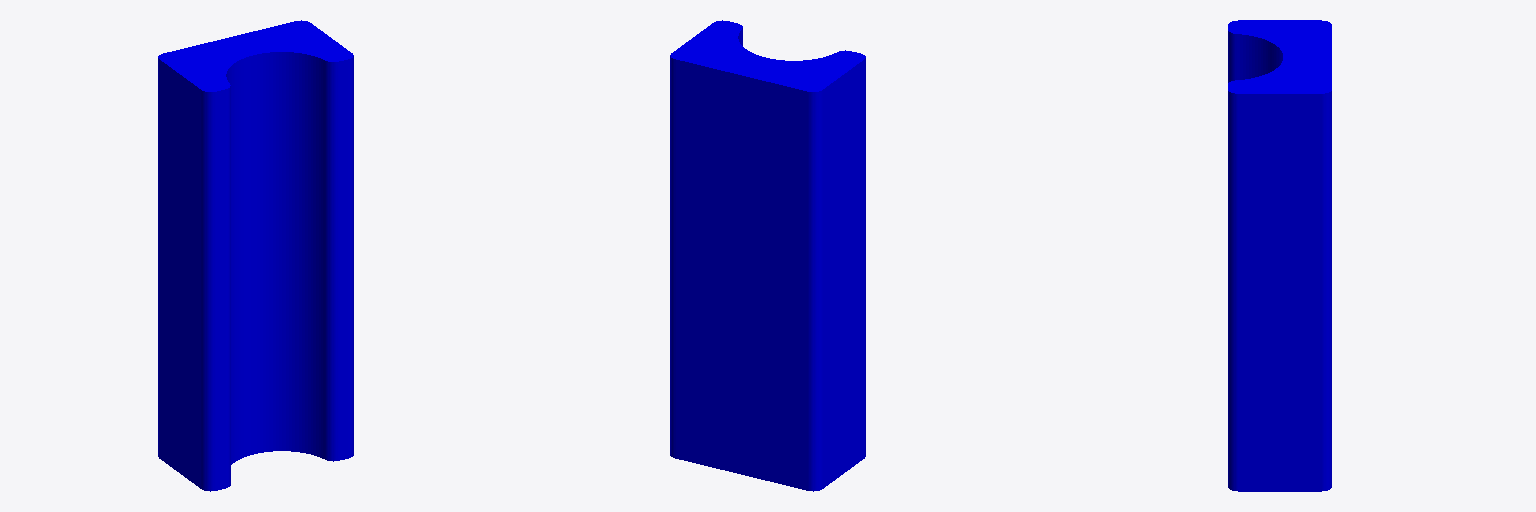
URDF robot description (board1_block15):
<?xml version="1.0"?>
<robot name="board1_block15">
    <link name="board1_block15">
        <visual>
            <origin xyz="0 0 0 " rpy=" 0 0 0"/>
            <geometry>
                <mesh filename="../meshes/SIMO_Board1_Block15.stl" scale="0.001 0.001 0.001"/>
            </geometry>
            <material name="red">
                <color rgba="0.0 0.0 1.0 1.0"/>
            </material>
        </visual>
        <collision>
            <origin xyz="0 0 0" rpy="0 0 0"/>
            <geometry>
                <mesh filename="../meshes/SIMO_Board1_Block15.stl" scale="0.001 0.001 0.001"/>
            </geometry>
        </collision>
    </link>
</robot>

--- What the picture shows (computed from the rendered views, not written in the file) ---
Views: 3 orthographic renders of the robot side by side, from view 1: azimuth 30°, elevation 25°; view 2: azimuth 150°, elevation 25°; view 3: azimuth 270°, elevation 25°.
Model board1_block15 with 1 links and 0 joints (none), rooted at board1_block15, posed all joints at 0.
Visible links, largest first — view 1: board1_block15; view 2: board1_block15; view 3: board1_block15.
Boxes of the visible links, <box> form: board1_block15: <box>158,20,353,491</box>; board1_block15: <box>670,20,865,491</box>; board1_block15: <box>1228,20,1331,491</box>.
Size in the robot's own frame: 0.0593 by 0.0356 by 0.15 metres.
1 mesh visuals loaded from 1 distinct referenced files (1 ASCII STL).
